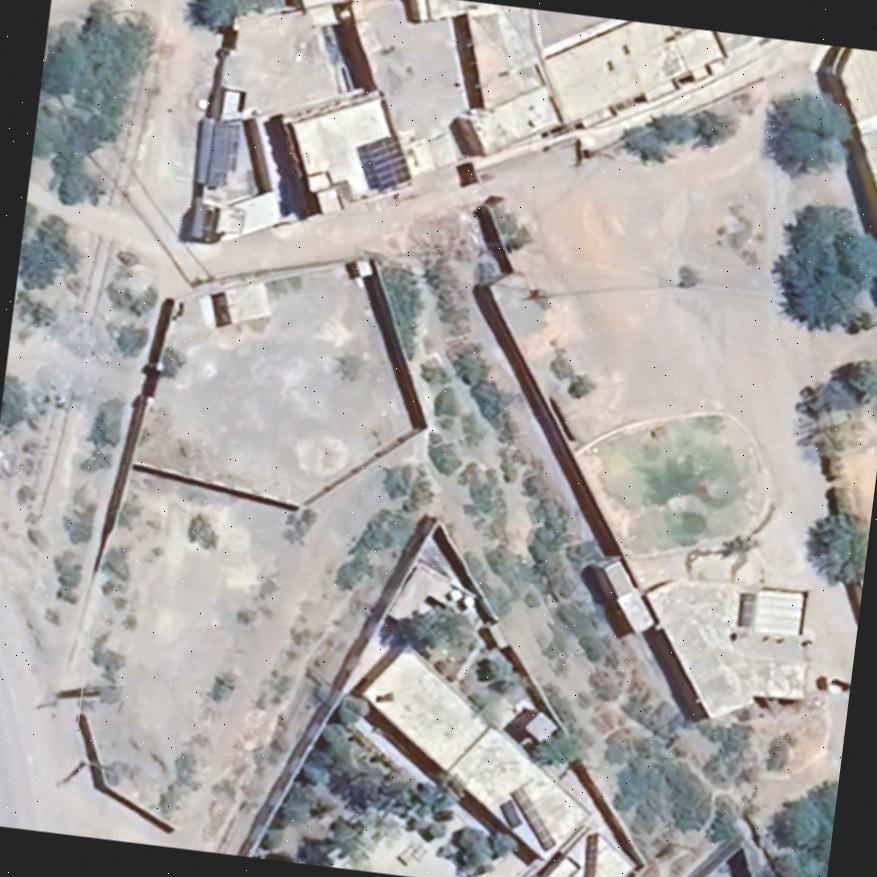Solarpanel: (194, 113, 242, 190), (357, 133, 411, 193), (508, 786, 557, 852), (187, 198, 212, 242), (496, 798, 523, 830)
